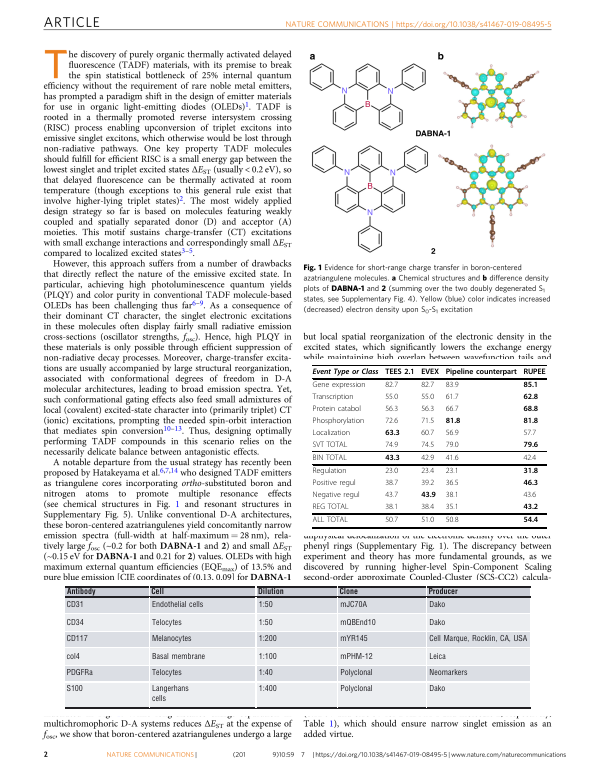borderless: (65, 585, 531, 707), (311, 364, 546, 527)
cell: (428, 634, 528, 644), (150, 684, 189, 704), (445, 368, 518, 377), (312, 368, 379, 377), (312, 381, 366, 391), (312, 417, 365, 427), (150, 652, 206, 661), (312, 405, 362, 415), (312, 491, 361, 501), (150, 600, 204, 609), (312, 479, 357, 489), (150, 634, 192, 644), (312, 393, 354, 403), (428, 668, 468, 678), (312, 429, 351, 439), (312, 503, 349, 513), (312, 454, 348, 464), (312, 467, 348, 477), (339, 668, 373, 678), (339, 684, 373, 694), (339, 618, 376, 627), (312, 517, 349, 526), (312, 441, 348, 450), (150, 668, 182, 678), (65, 587, 96, 597), (427, 587, 458, 597), (339, 652, 373, 661), (339, 634, 368, 644), (150, 618, 182, 627), (256, 587, 284, 597), (65, 668, 93, 678), (384, 368, 415, 377), (339, 600, 367, 609), (65, 634, 88, 644), (522, 368, 547, 377), (338, 587, 358, 597), (257, 634, 277, 644), (257, 684, 277, 694), (257, 652, 277, 661), (65, 684, 83, 694), (428, 684, 446, 694), (420, 368, 440, 377), (65, 600, 84, 609), (65, 618, 84, 627), (522, 467, 539, 477), (522, 479, 539, 489), (420, 491, 437, 501), (522, 503, 539, 513), (428, 600, 446, 609), (428, 618, 446, 627), (428, 652, 446, 661), (257, 668, 273, 678), (522, 381, 539, 390), (522, 393, 539, 402), (522, 405, 539, 414), (522, 417, 539, 426), (384, 429, 401, 438), (522, 441, 539, 450), (384, 454, 401, 463), (522, 517, 539, 526), (384, 381, 399, 391), (420, 381, 435, 391), (384, 393, 399, 403), (420, 393, 435, 403), (384, 405, 399, 415), (420, 405, 435, 415), (384, 417, 399, 427), (420, 417, 435, 427), (420, 429, 435, 439), (522, 429, 537, 439), (420, 454, 435, 464), (522, 454, 537, 464), (384, 467, 399, 477), (420, 467, 435, 477), (384, 479, 399, 489), (420, 479, 435, 489), (384, 491, 399, 501), (522, 491, 537, 501), (384, 503, 399, 513), (420, 503, 435, 513), (257, 600, 273, 609), (257, 618, 273, 627), (445, 417, 461, 426), (150, 587, 164, 597), (445, 381, 459, 391), (445, 393, 459, 403), (445, 405, 459, 415), (445, 429, 459, 439), (445, 454, 459, 464), (445, 467, 459, 477), (445, 479, 459, 489), (445, 491, 459, 501), (445, 503, 459, 513), (65, 652, 80, 661), (384, 441, 399, 450), (420, 441, 435, 450), (384, 517, 399, 526), (420, 517, 435, 526), (445, 441, 459, 450), (445, 517, 459, 526)
